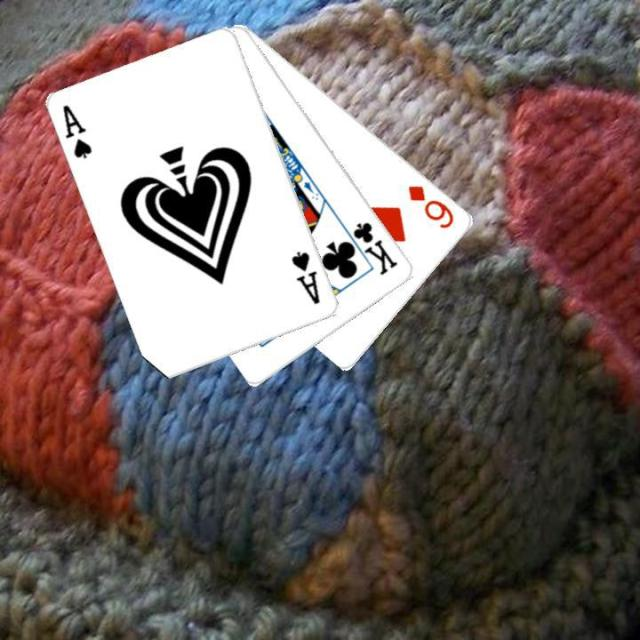6D: (404, 181, 457, 231)
AS: (59, 100, 94, 162), (288, 247, 323, 307)
KC: (339, 218, 400, 277)
